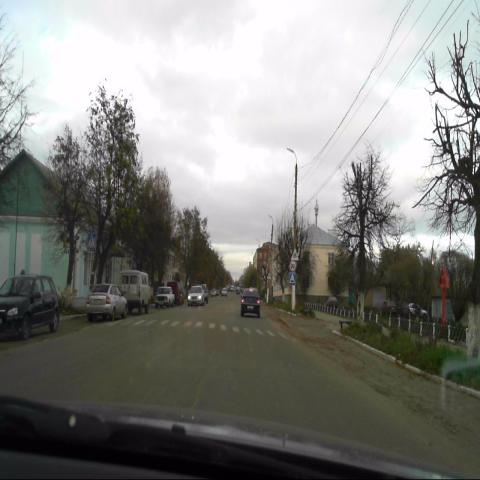1_23: (291, 248, 299, 261)
3_24: (288, 261, 296, 271)
5_19_1: (87, 232, 96, 249)
5_20: (288, 272, 296, 284)
